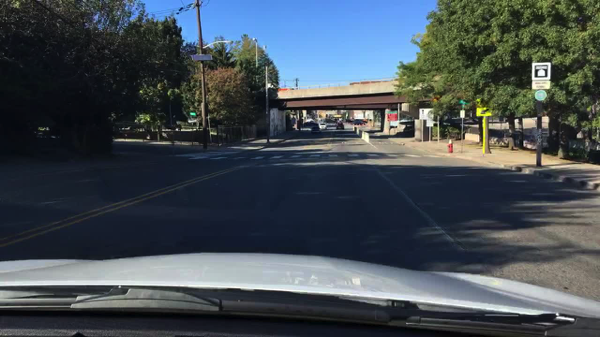car: (303, 122, 318, 127), (354, 119, 364, 126), (336, 123, 345, 130), (311, 126, 320, 133), (318, 124, 327, 129)
traffic sign: (531, 63, 550, 80), (418, 108, 433, 120), (533, 81, 550, 90), (477, 107, 493, 116), (535, 90, 545, 101), (193, 55, 210, 60), (187, 119, 197, 125), (389, 114, 397, 121), (425, 120, 433, 126), (390, 121, 397, 126), (459, 111, 464, 118), (189, 112, 196, 117), (386, 111, 397, 113), (459, 100, 464, 104)
